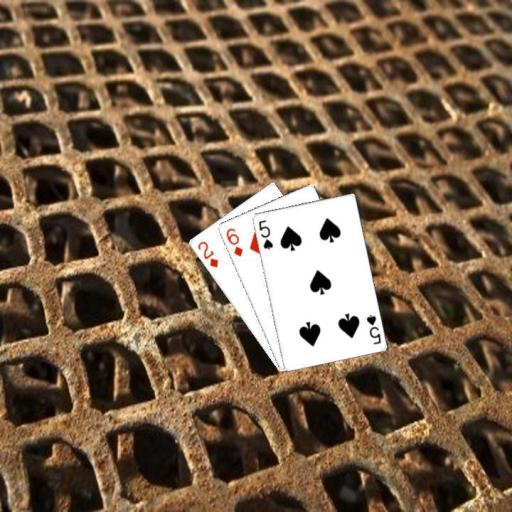2D: (194, 237, 220, 269)
5S: (255, 216, 274, 251), (363, 312, 382, 346)
6D: (222, 225, 244, 258)
